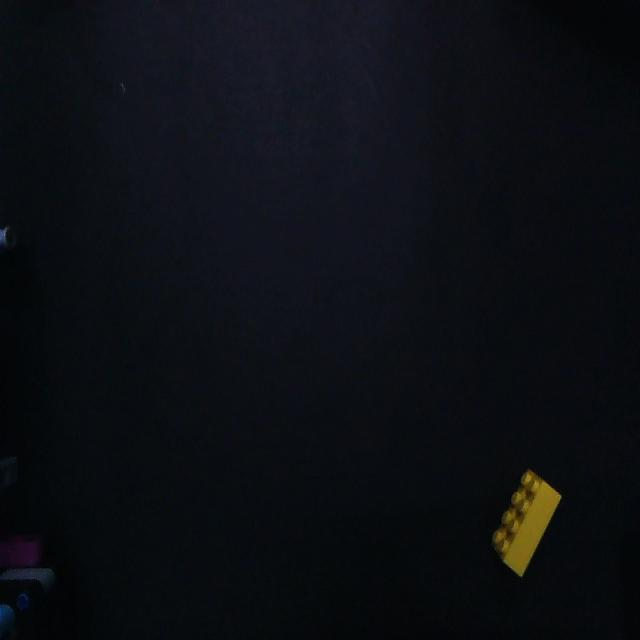lego_brick: (492, 469, 561, 576)
